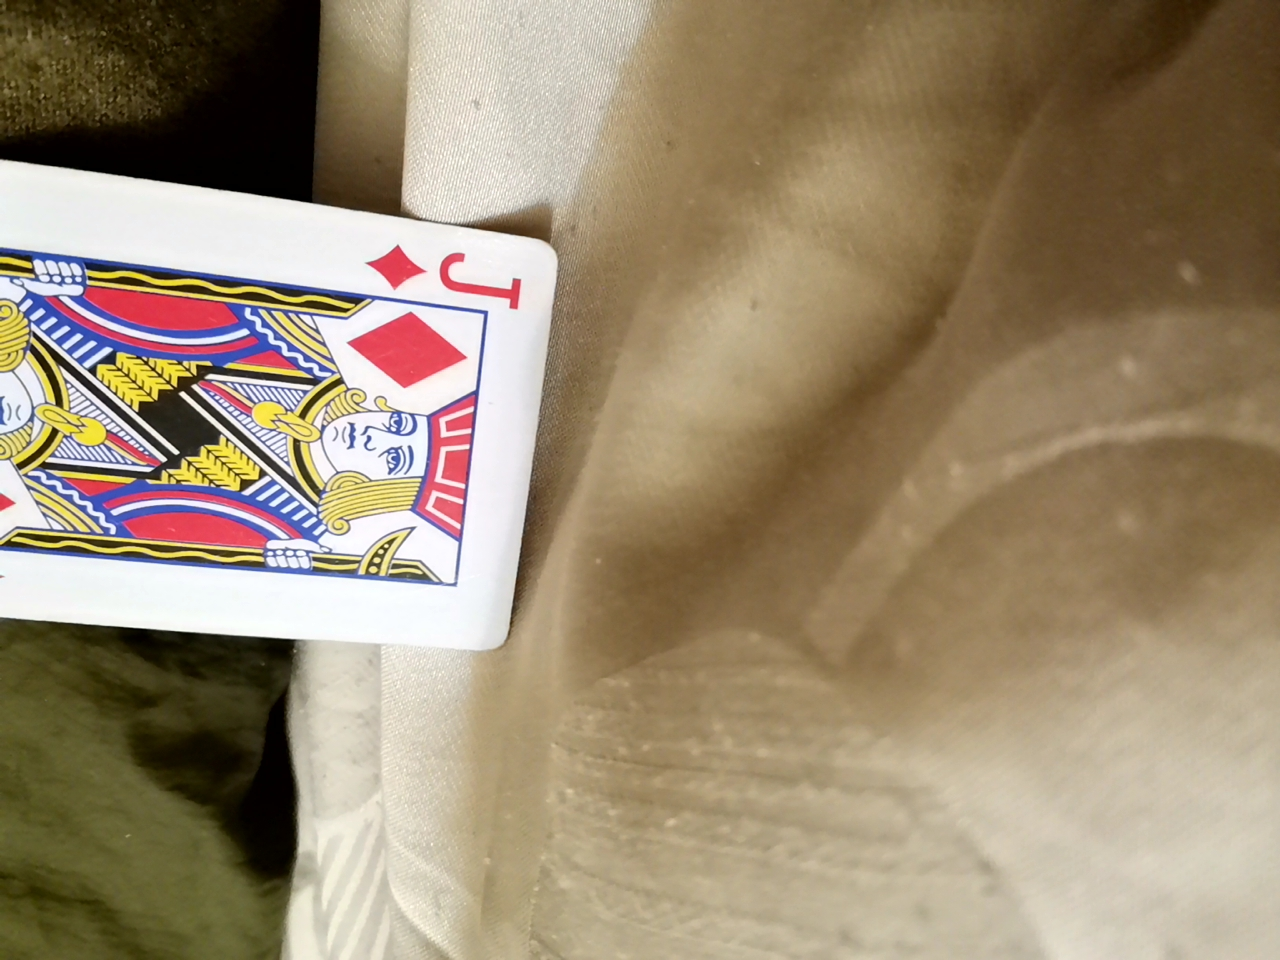fk j: (0, 139, 557, 657)
